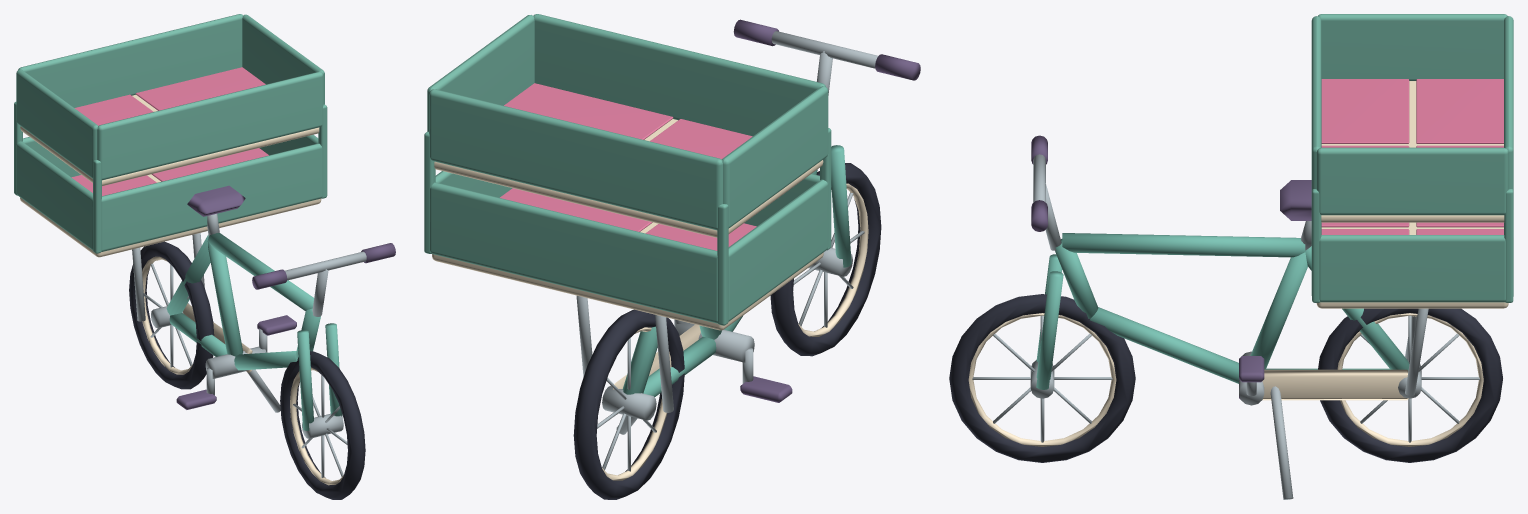
The model's file is Delivery_bike_8_cargo.fbx.
3 renders of one model, left to right at view 1: azimuth 30°, elevation 25°; view 2: azimuth 150°, elevation 25°; view 3: azimuth 270°, elevation 25°, orthographic. The views are drawn at different scales.
Parts seen in each view (by area): view 1: Toon_Delivery_bike_8_cargo Upper cargo end.002, Toon_Delivery_bike_8_cargo Cargo end.002, Toon_Delivery_bike_8_cargo Upper cargo end.003, Toon_Delivery_bike_8_cargo Delivery_Bicycle_Mesh.001, Toon_Delivery_bike_8_cargo Bike_FrontWheel_AXLE_Mesh.001, Toon_Delivery_bike_8_cargo Bike_RearWheel_AXLE_Mesh.001, Toon_Delivery_bike_8_cargo Upper cargo side.002, Toon_Delivery_bike_8_cargo Cargo side.002, Toon_Delivery_bike_8_cargo Bike_Steering_Mesh.001, Toon_Delivery_bike_8_cargo Upper cargo side.003, Toon_Delivery_bike_8_cargo Slot pad.015, Toon_Delivery_bike_8_cargo Bike_Pedals_AXLE_Mesh.001 (+9 smaller); view 2: Toon_Delivery_bike_8_cargo Upper cargo end.003, Toon_Delivery_bike_8_cargo Cargo end.003, Toon_Delivery_bike_8_cargo Upper cargo end.002, Toon_Delivery_bike_8_cargo Bike_RearWheel_AXLE_Mesh.001, Toon_Delivery_bike_8_cargo Upper cargo side.002, Toon_Delivery_bike_8_cargo Bike_FrontWheel_AXLE_Mesh.001, Toon_Delivery_bike_8_cargo Cargo side.002, Toon_Delivery_bike_8_cargo Delivery_Bicycle_Mesh.001, Toon_Delivery_bike_8_cargo Bike_Steering_Mesh.001, Toon_Delivery_bike_8_cargo Upper cargo side.003, Toon_Delivery_bike_8_cargo Slot pad.013, Toon_Delivery_bike_8_cargo Upper cargo tray.001 (+10 smaller); view 3: Toon_Delivery_bike_8_cargo Delivery_Bicycle_Mesh.001, Toon_Delivery_bike_8_cargo Upper cargo side.003, Toon_Delivery_bike_8_cargo Cargo side.003, Toon_Delivery_bike_8_cargo Bike_FrontWheel_AXLE_Mesh.001, Toon_Delivery_bike_8_cargo Upper cargo side.002, Toon_Delivery_bike_8_cargo Bike_RearWheel_AXLE_Mesh.001, Toon_Delivery_bike_8_cargo Slot pad.012, Toon_Delivery_bike_8_cargo Slot pad.014, Toon_Delivery_bike_8_cargo Bike_Steering_Mesh.001, Toon_Delivery_bike_8_cargo Upper cargo tray.001, Toon_Delivery_bike_8_cargo Cargo tray.001, Toon_Delivery_bike_8_cargo Upper cargo end.002 (+4 smaller).
Part boxes in pixels (box(x1,y1,x2,y2)): Toon_Delivery_bike_8_cargo Upper cargo end.002: box(97, 72, 323, 180); Toon_Delivery_bike_8_cargo Cargo end.002: box(101, 143, 322, 251); Toon_Delivery_bike_8_cargo Upper cargo end.003: box(18, 14, 242, 107); Toon_Delivery_bike_8_cargo Delivery_Bicycle_Mesh.001: box(132, 185, 320, 412); Toon_Delivery_bike_8_cargo Bike_FrontWheel_AXLE_Mesh.001: box(280, 351, 365, 499); Toon_Delivery_bike_8_cargo Bike_RearWheel_AXLE_Mesh.001: box(129, 241, 214, 389); Toon_Delivery_bike_8_cargo Upper cargo side.002: box(16, 69, 97, 178); Toon_Delivery_bike_8_cargo Cargo side.002: box(16, 141, 93, 250); Toon_Delivery_bike_8_cargo Bike_Steering_Mesh.001: box(252, 243, 395, 430); Toon_Delivery_bike_8_cargo Upper cargo side.003: box(242, 14, 324, 104); Toon_Delivery_bike_8_cargo Slot pad.015: box(135, 67, 265, 110); Toon_Delivery_bike_8_cargo Bike_Pedals_AXLE_Mesh.001: box(176, 315, 296, 409); Toon_Delivery_bike_8_cargo Upper cargo end.003: box(429, 89, 722, 230); Toon_Delivery_bike_8_cargo Cargo end.003: box(430, 182, 717, 323); Toon_Delivery_bike_8_cargo Upper cargo end.002: box(533, 14, 825, 136); Toon_Delivery_bike_8_cargo Bike_RearWheel_AXLE_Mesh.001: box(573, 309, 684, 499); Toon_Delivery_bike_8_cargo Upper cargo side.002: box(722, 86, 828, 228); Toon_Delivery_bike_8_cargo Bike_FrontWheel_AXLE_Mesh.001: box(770, 163, 881, 356); Toon_Delivery_bike_8_cargo Cargo side.002: box(728, 179, 828, 321); Toon_Delivery_bike_8_cargo Delivery_Bicycle_Mesh.001: box(576, 169, 817, 434); Toon_Delivery_bike_8_cargo Bike_Steering_Mesh.001: box(733, 19, 920, 267); Toon_Delivery_bike_8_cargo Upper cargo side.003: box(427, 15, 534, 131); Toon_Delivery_bike_8_cargo Slot pad.013: box(504, 83, 673, 139); Toon_Delivery_bike_8_cargo Upper cargo tray.001: box(434, 119, 823, 237); Toon_Delivery_bike_8_cargo Delivery_Bicycle_Mesh.001: box(1055, 180, 1428, 499); Toon_Delivery_bike_8_cargo Upper cargo side.003: box(1316, 147, 1508, 215); Toon_Delivery_bike_8_cargo Cargo side.003: box(1319, 235, 1505, 302); Toon_Delivery_bike_8_cargo Bike_FrontWheel_AXLE_Mesh.001: box(949, 294, 1135, 462); Toon_Delivery_bike_8_cargo Upper cargo side.002: box(1318, 14, 1507, 80); Toon_Delivery_bike_8_cargo Bike_RearWheel_AXLE_Mesh.001: box(1318, 308, 1502, 462); Toon_Delivery_bike_8_cargo Slot pad.012: box(1321, 79, 1409, 143); Toon_Delivery_bike_8_cargo Slot pad.014: box(1416, 79, 1503, 143); Toon_Delivery_bike_8_cargo Bike_Steering_Mesh.001: box(1031, 135, 1063, 389); Toon_Delivery_bike_8_cargo Upper cargo tray.001: box(1321, 81, 1504, 222); Toon_Delivery_bike_8_cargo Cargo tray.001: box(1316, 222, 1508, 308); Toon_Delivery_bike_8_cargo Upper cargo end.002: box(1311, 16, 1321, 208).
Bounding box in the file's own units: 115 × 151 × 200.
